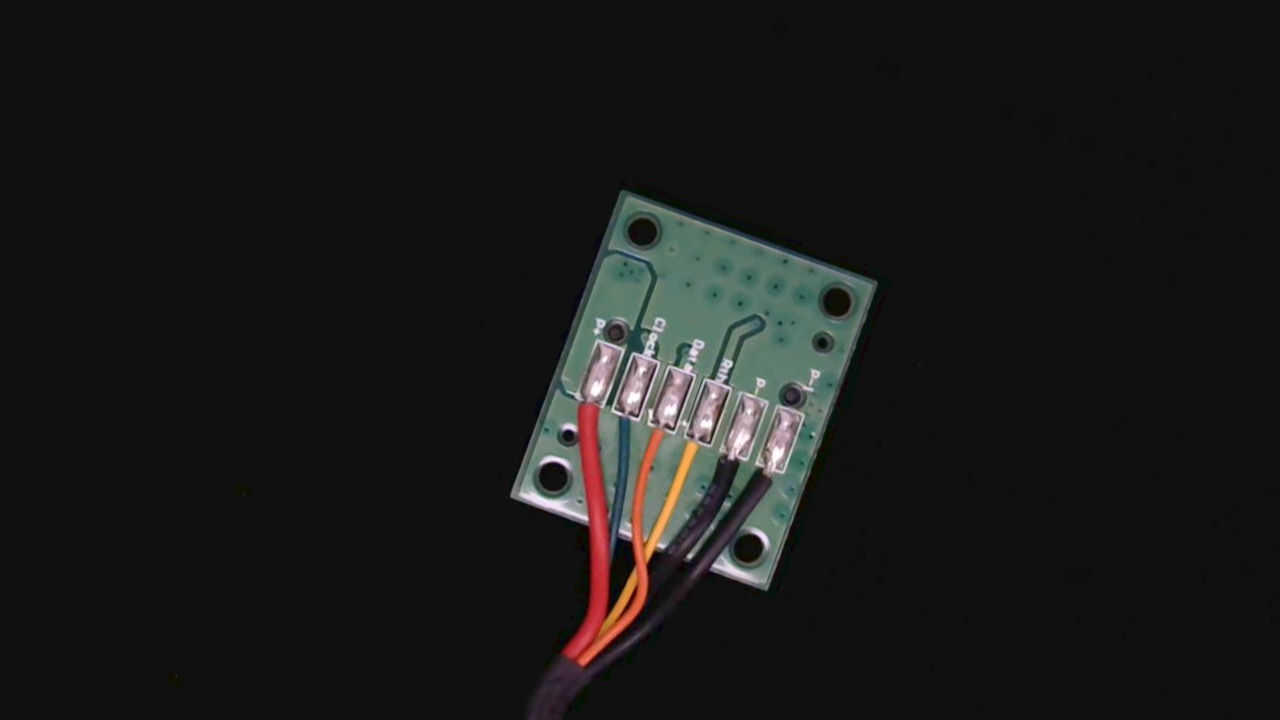Black: (702, 436, 751, 508)
Black1: (737, 449, 791, 523)
Green: (596, 393, 647, 457)
Orange: (630, 408, 681, 480)
Red: (558, 380, 610, 455)
Yellow: (661, 421, 719, 502)
